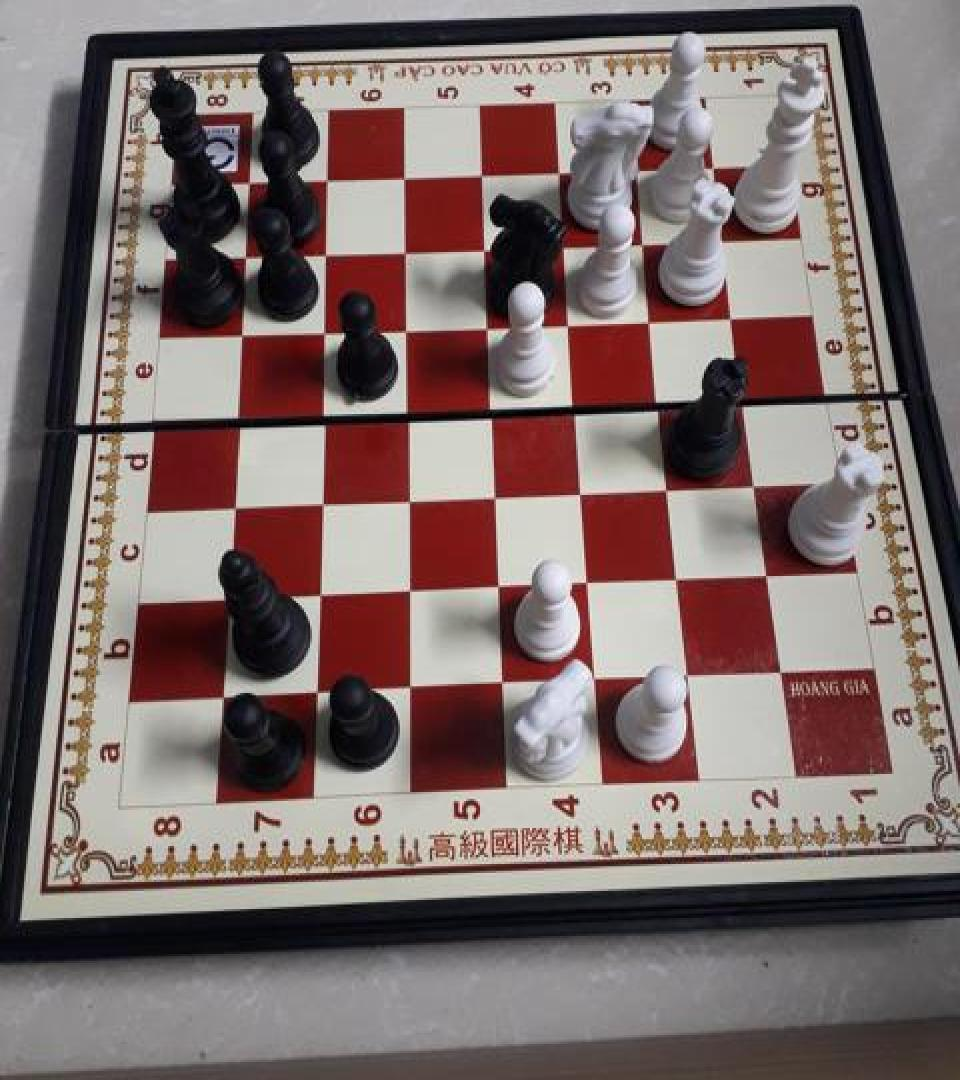xcorner: (213, 580, 245, 617), (394, 572, 426, 609), (208, 680, 240, 716), (302, 675, 334, 711), (395, 672, 427, 708), (488, 667, 520, 703), (581, 662, 613, 698), (674, 659, 706, 695), (767, 655, 799, 691), (303, 576, 335, 612), (484, 568, 516, 604), (574, 565, 606, 601), (664, 560, 696, 596), (754, 557, 786, 593), (217, 487, 249, 523), (305, 484, 337, 520), (393, 479, 425, 515), (480, 476, 512, 512), (568, 472, 600, 508), (655, 469, 687, 505), (742, 464, 774, 500), (221, 400, 253, 436), (307, 396, 339, 432), (392, 392, 424, 428), (477, 389, 509, 425), (561, 386, 593, 422), (646, 382, 678, 418), (731, 379, 763, 415), (225, 317, 257, 353), (308, 314, 340, 350), (391, 310, 423, 346), (473, 307, 505, 343), (556, 304, 588, 340), (638, 300, 670, 336), (720, 297, 752, 333), (229, 238, 261, 274), (309, 236, 341, 272), (390, 233, 422, 269), (470, 230, 502, 266), (550, 226, 582, 262), (630, 223, 662, 259), (710, 220, 742, 256), (311, 162, 343, 198), (389, 160, 421, 196), (467, 156, 499, 192), (545, 153, 577, 189), (623, 151, 655, 187), (700, 148, 732, 184), (232, 166, 264, 201)
